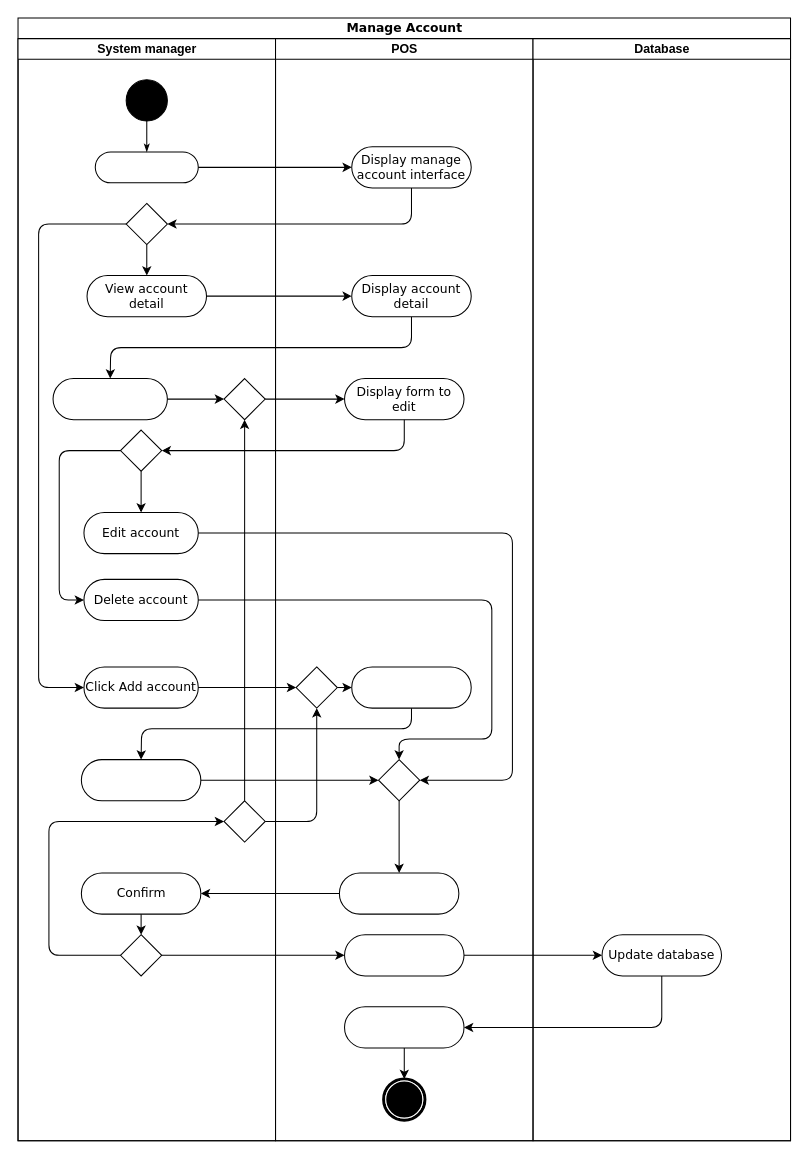
Image size: 809x1159. Some labels were removed from this diagram. The centre of each missing label's shape, as x and y in pixels:
"Click Edit account" goes at [109,398].
"Click manage account button" goes at [146,167].
"Display confirm button" goes at [398,893].
"Display form to add" goes at [411,687].
"Fill in the form" goes at [140,780].
"Recieve confirm" goes at [404,955].
"Update interface" goes at [404,1027].
